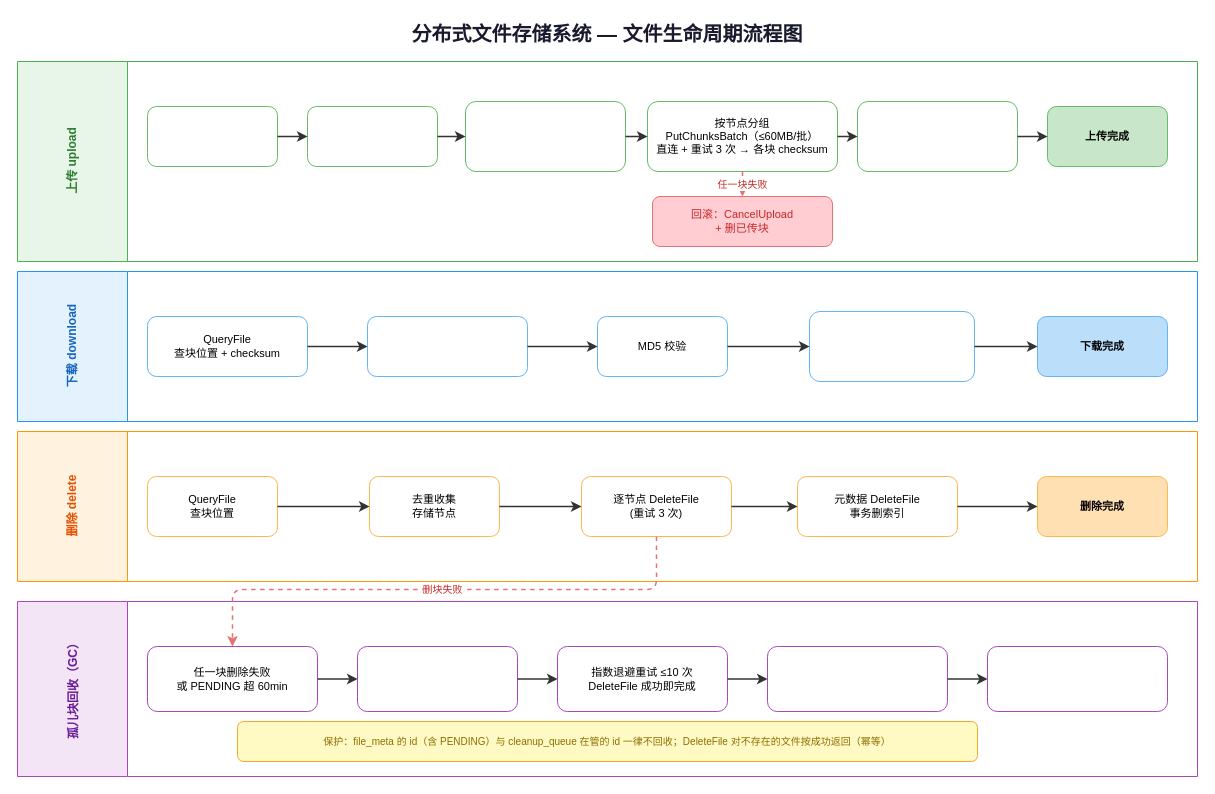
Image size: 1215x794. Some labels were removed from this diagram. The centre of each missing label's shape, as x and y in pixels:
"CommitUpload PENDING→COMPLETE 登记 checksum" belongs at (x=937, y=136).
"GetChunksBatch 按节点分组，直连 + 重试" belongs at (x=447, y=346).
"UploadFile(虚拟路径) 登记 PENDING + 查重" belongs at (x=545, y=136).
"兜底对账：id 区间游标 gc_range_width 逐轮推进" belongs at (x=857, y=679).
"入 cleanup_queue (Redis Stream)" belongs at (x=437, y=679).
"对照存储端 file_id 内存索引 差集即孤儿 → DeleteFile" belongs at (x=1077, y=679).
"按 4MB 分块 (CHUNK_SIZE)" belongs at (x=372, y=136).
"流式写回 按 offset 拼接 (默认 ~/Downloads)" belongs at (x=891, y=346).
"读本地文件 (流式 ifstream)" belongs at (x=212, y=136).
